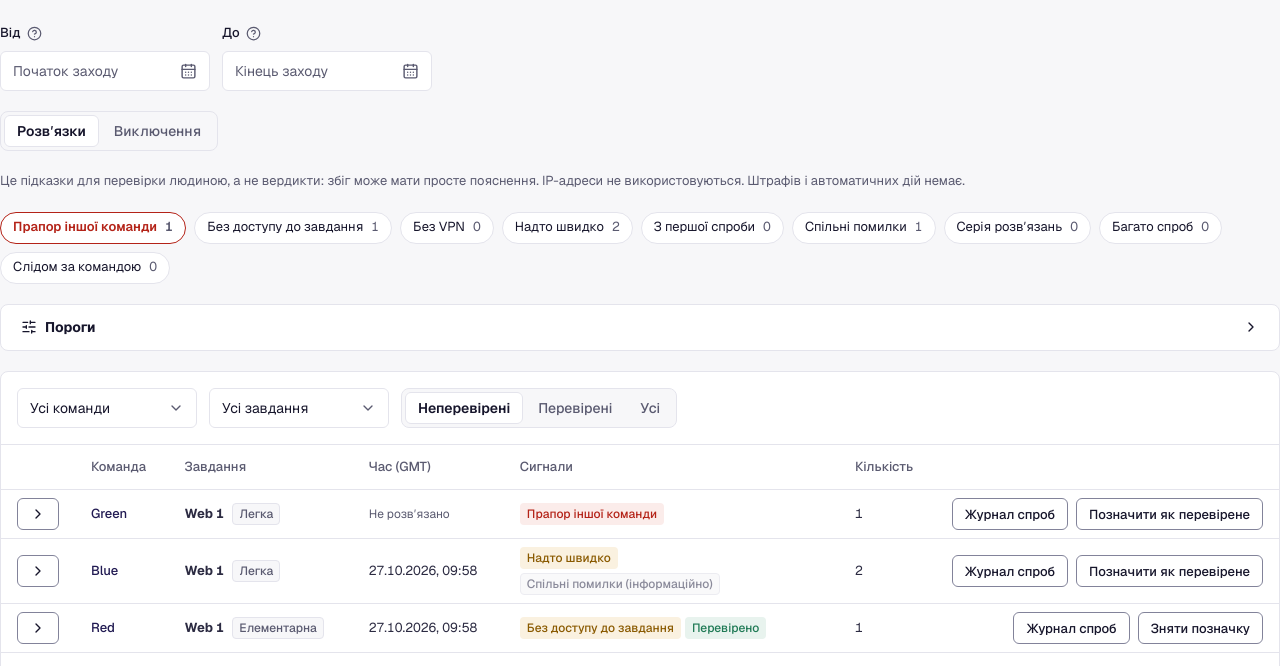
Test: Доброчесність › dismisses a shared wrong answer for the event with a note
Click the button named "Докази: Blue, Web 1" at (38, 571), box left=17, top=555, right=59, bottom=587
(page scrolled)
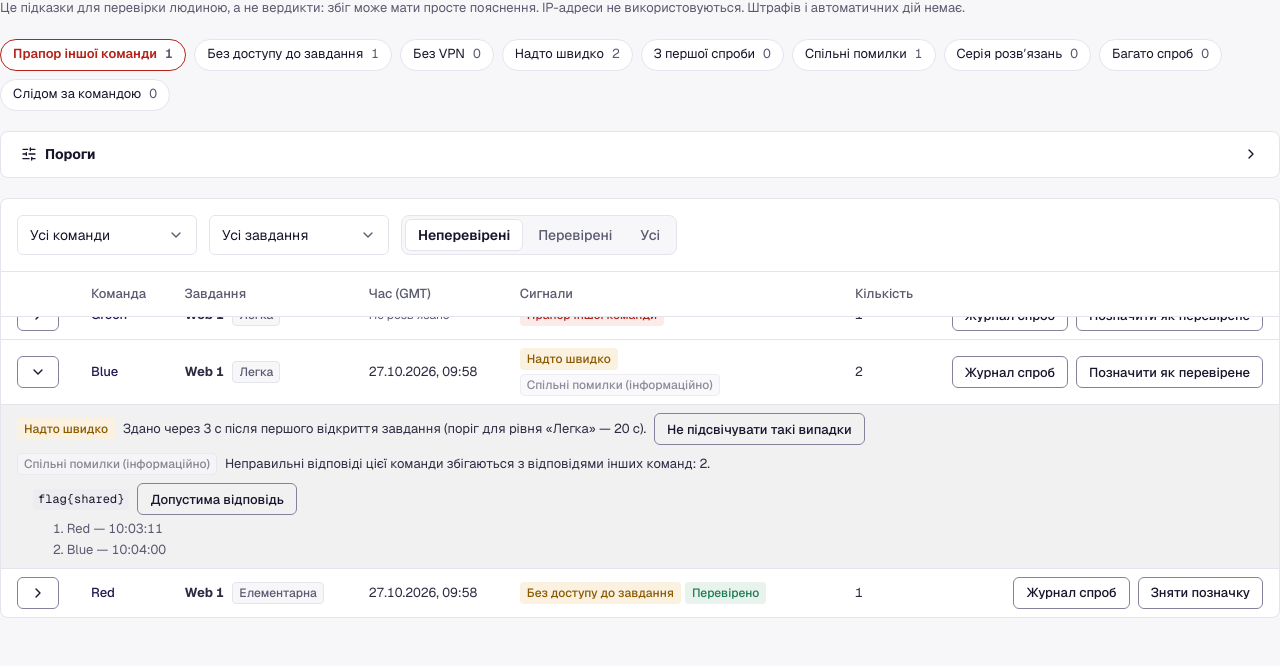
Click the button "Допустима відповідь" at (217, 499), box left=137, top=483, right=297, bottom=515
(page scrolled)
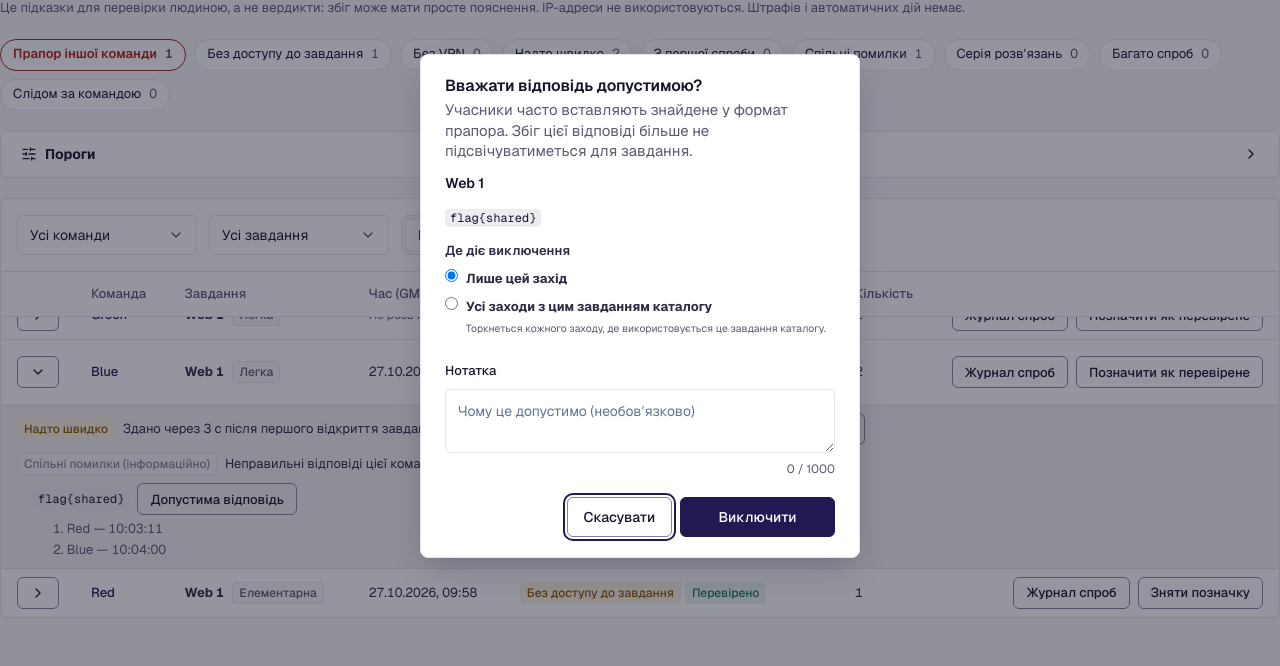
Now the text "flag{shared}" is shown, box left=445, top=209, right=541, bottom=227
Now the radio button labelled "Лише цей захід" is checked, box left=445, top=269, right=458, bottom=282
Now the text "Торкнеться кожного заходу, де використовується це завдання каталогу." is shown, box left=466, top=321, right=826, bottom=337
Type "Common path" into the text box labelled "Нотатка" at (640, 421), box left=445, top=389, right=835, bottom=453
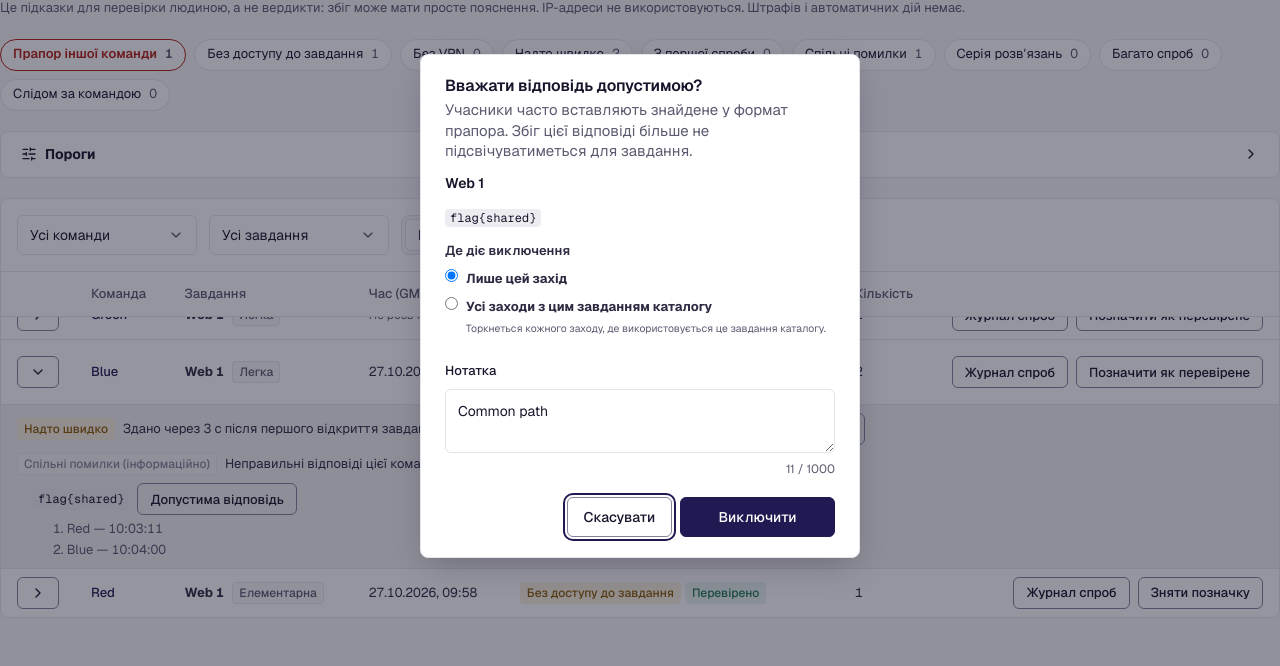
Click the button "Виключити" at (758, 517), box left=680, top=497, right=835, bottom=537
(page scrolled)
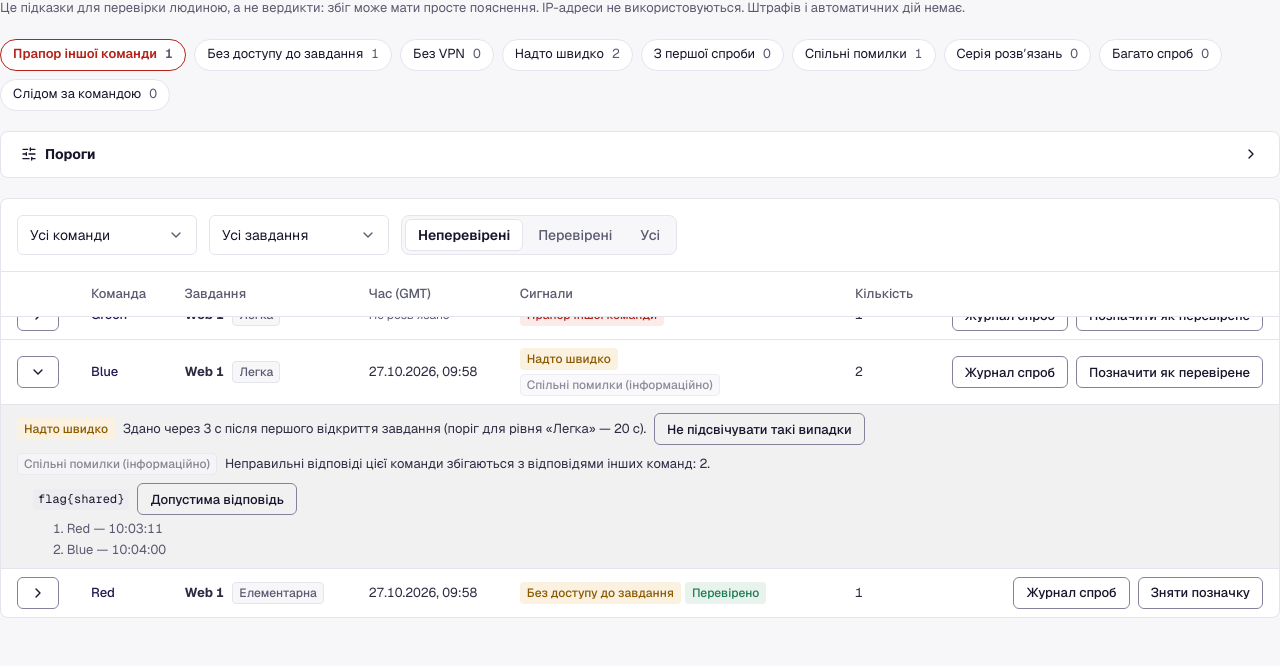
Now the dialog is gone
